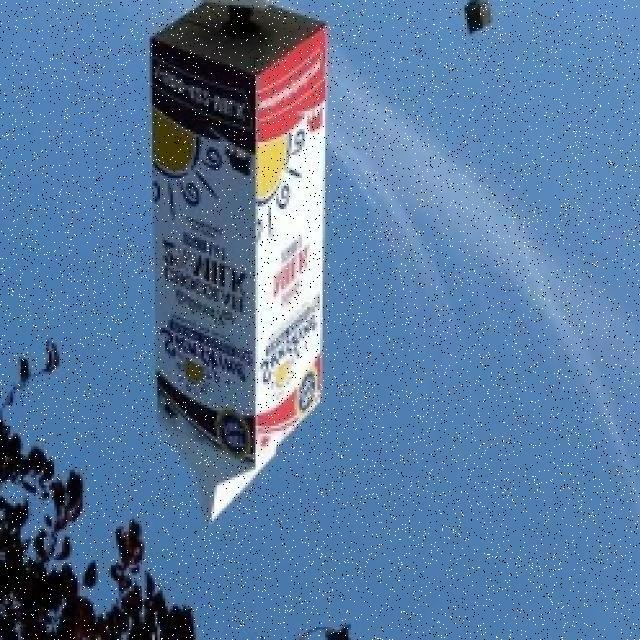box: (151, 9, 342, 526)
